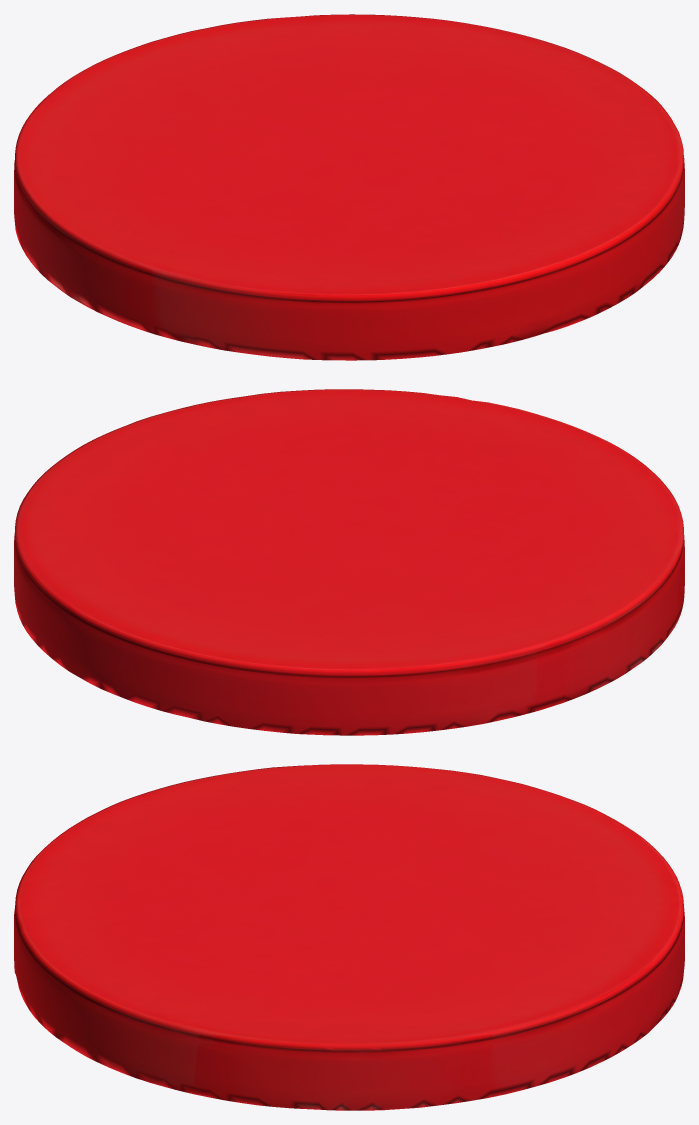
Rendered from Meshy_AI_Red_Disc_Platform_0102105119_texture.fbx.
The picture shows the model from 3 angles, top to bottom: view 1: azimuth 30°, elevation 25°; view 2: azimuth 150°, elevation 25°; view 3: azimuth 270°, elevation 25°; orthographic projection.
Parts seen in each view (by area): view 1: Mesh0; view 2: Mesh0; view 3: Mesh0.
Boxes of the visible parts, box(x1,y1,x2,y2) form: Mesh0: box(14, 14, 684, 360); Mesh0: box(14, 389, 684, 735); Mesh0: box(14, 764, 684, 1110).
Bounding box in the file's own units: 192 × 21.94 × 192.
Materials: 1 (1 with a texture image).
